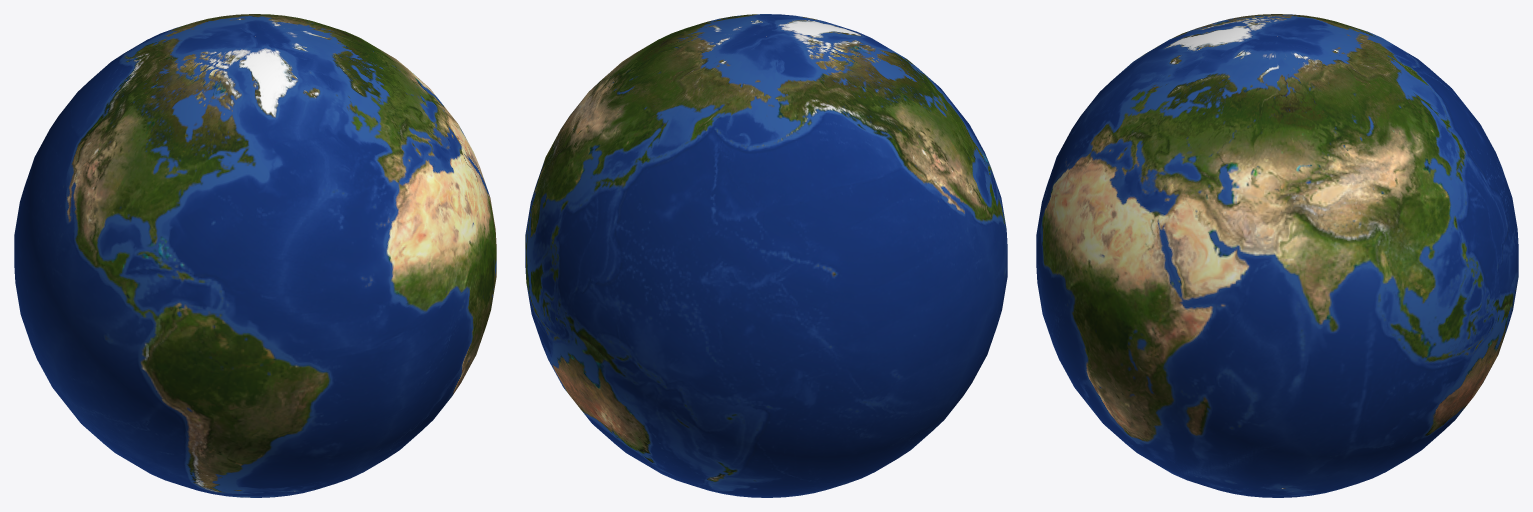
File: earth.glb
The picture shows the model from 3 angles, left to right: view 1: azimuth 30°, elevation 25°; view 2: azimuth 150°, elevation 25°; view 3: azimuth 270°, elevation 25°; orthographic projection.
Parts seen in each view (by area): view 1: earth; view 2: earth; view 3: earth.
Part boxes in pixels (box(x1,y1,x2,y2)): earth: box(14, 14, 496, 497); earth: box(525, 14, 1007, 497); earth: box(1036, 14, 1518, 497).
Size of what is drawn, in the model's own units: 144 by 144 by 143.
1 material, 1 textured.
